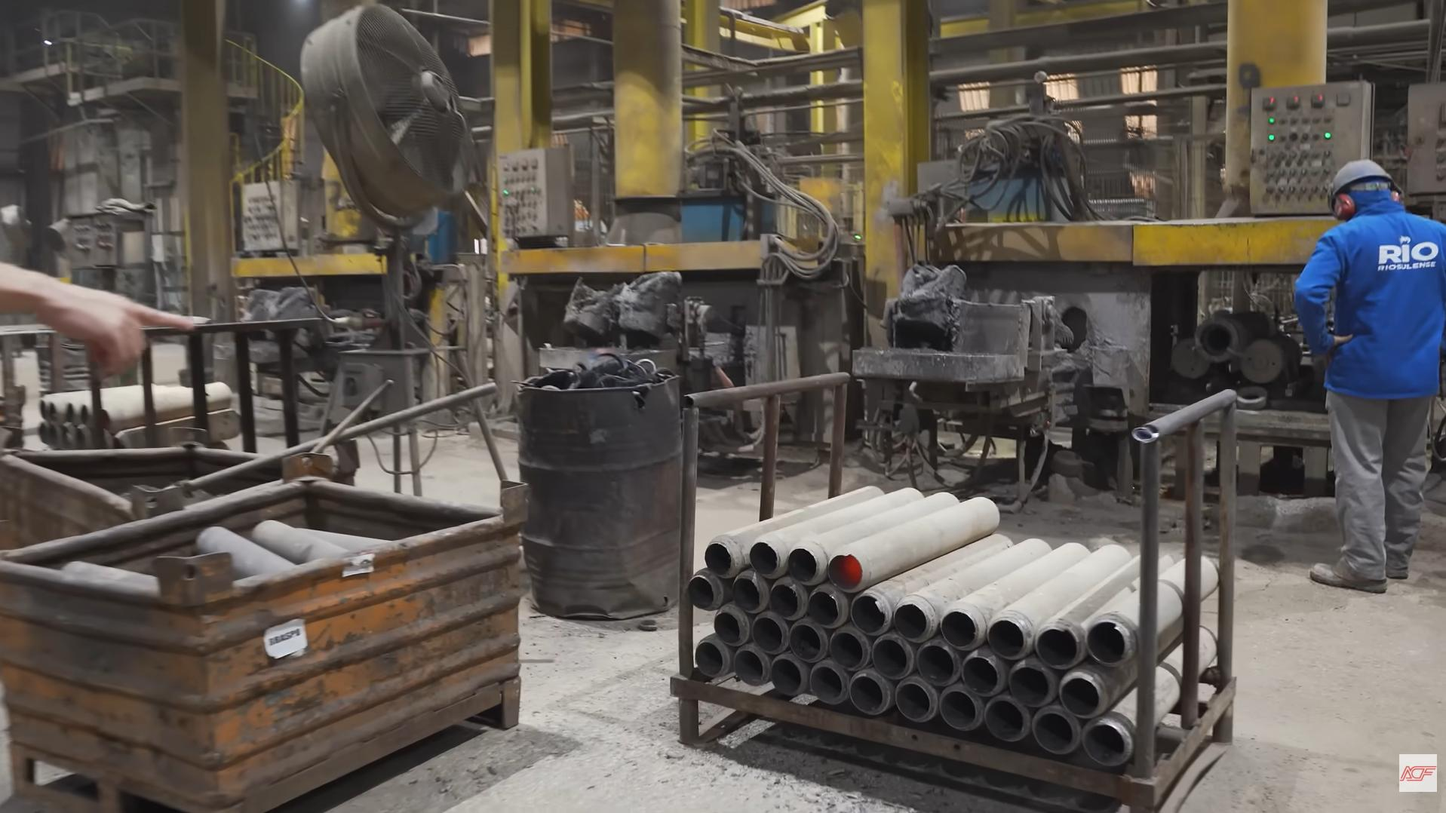boots: (1309, 560, 1385, 593)
gloves: (1324, 335, 1355, 369)
helmet: (1325, 151, 1400, 221)
